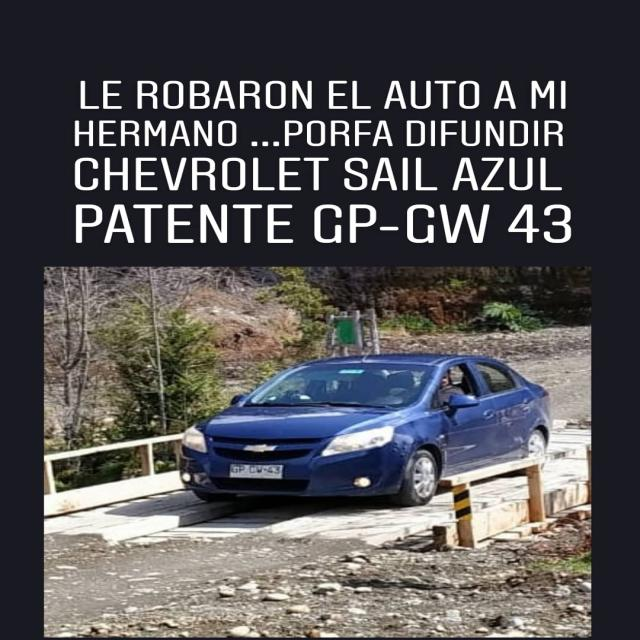patente: (228, 463, 284, 480)
